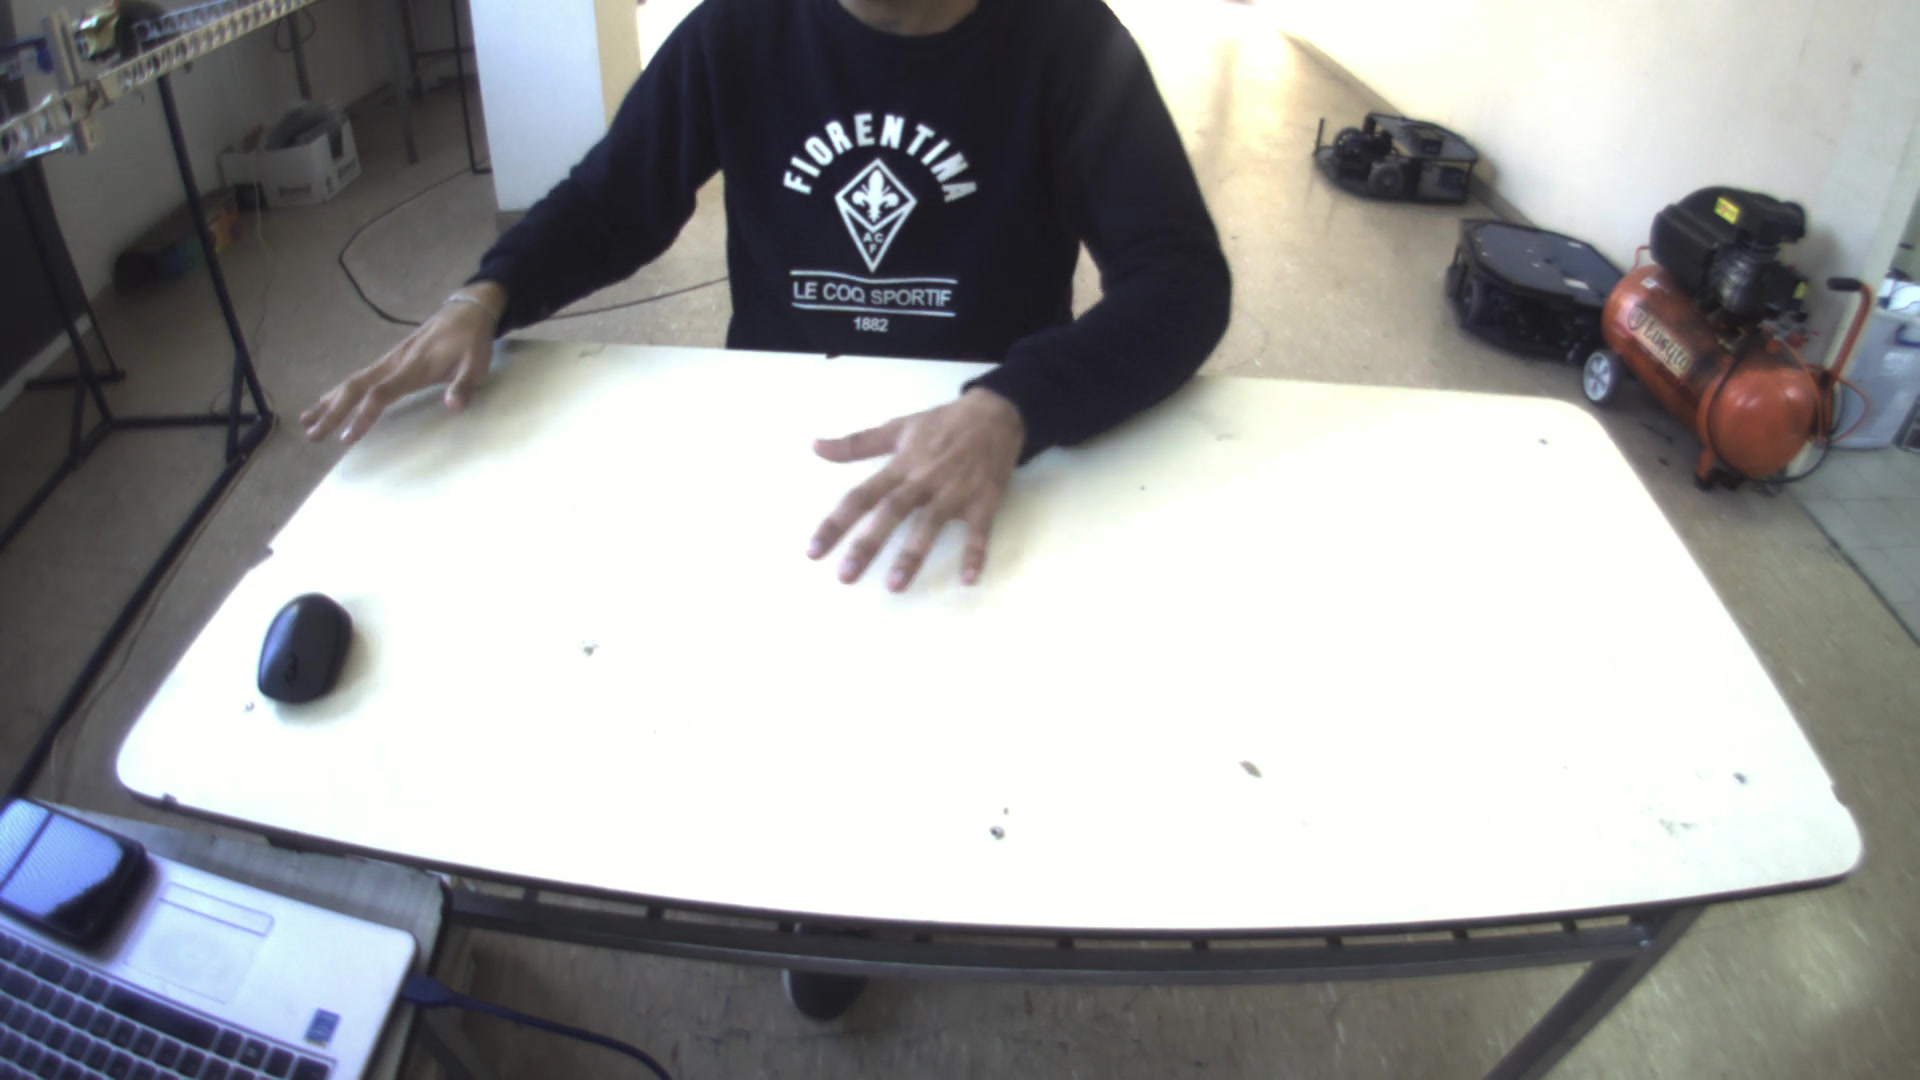hand: (789, 373, 1029, 603), (285, 280, 502, 448)
